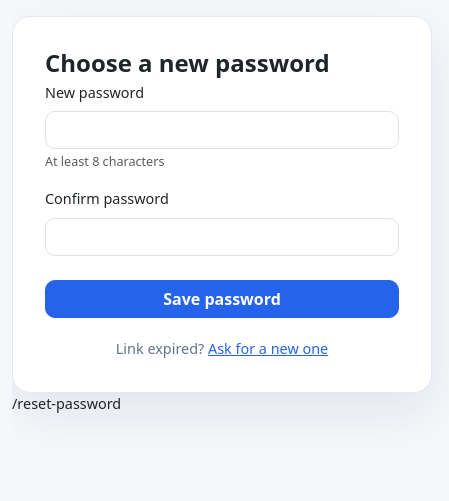
Test case: Reset password › shows why an expired link failed and offers a new one
The width and height of the screenshot is (449, 501).
In the password field labelled "New password": (222, 130) [45,111,399,149], type "new-password"
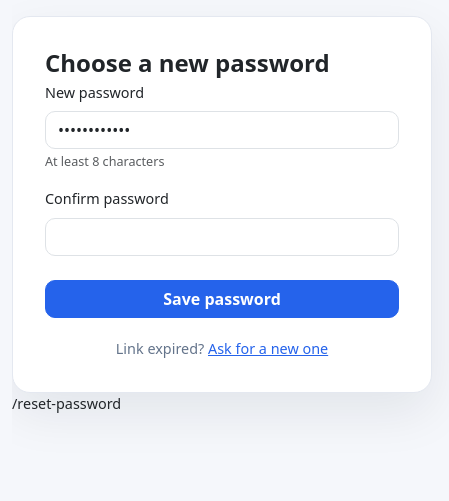
In the password field labelled "Confirm password": (222, 237) [45,218,399,256], type "new-password"
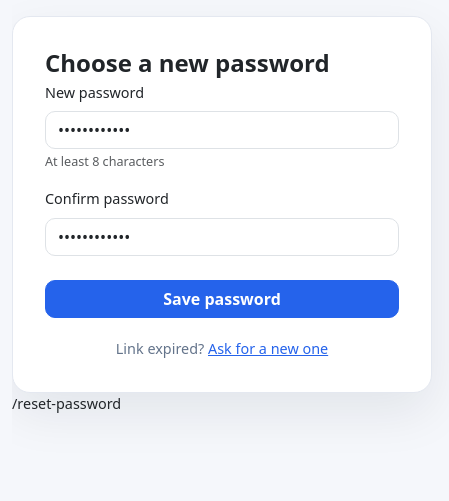
Click the button "Save password": (222, 299) [45,280,399,318]
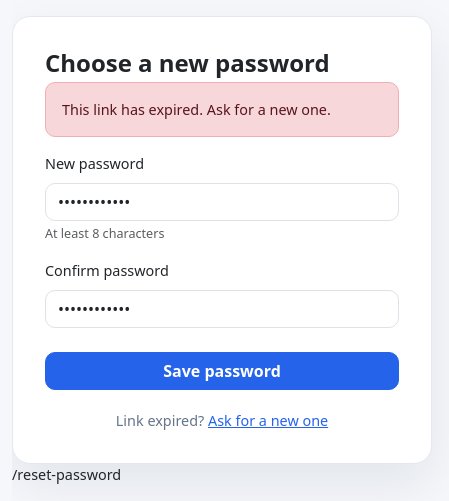
Expected: the text "This link has expired. Ask for a new one." is shown, [45,82,399,137]
